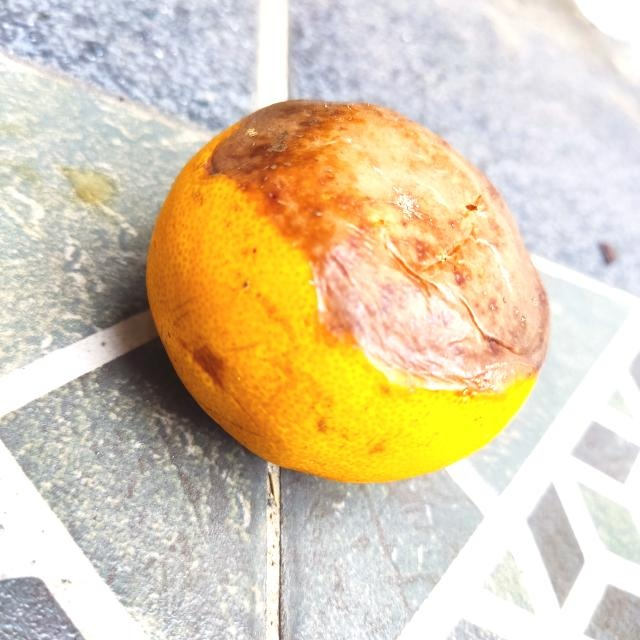agrume: (136, 95, 550, 485)
